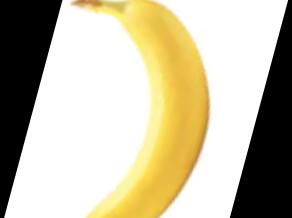Banana Ripe: (48, 0, 229, 218)
